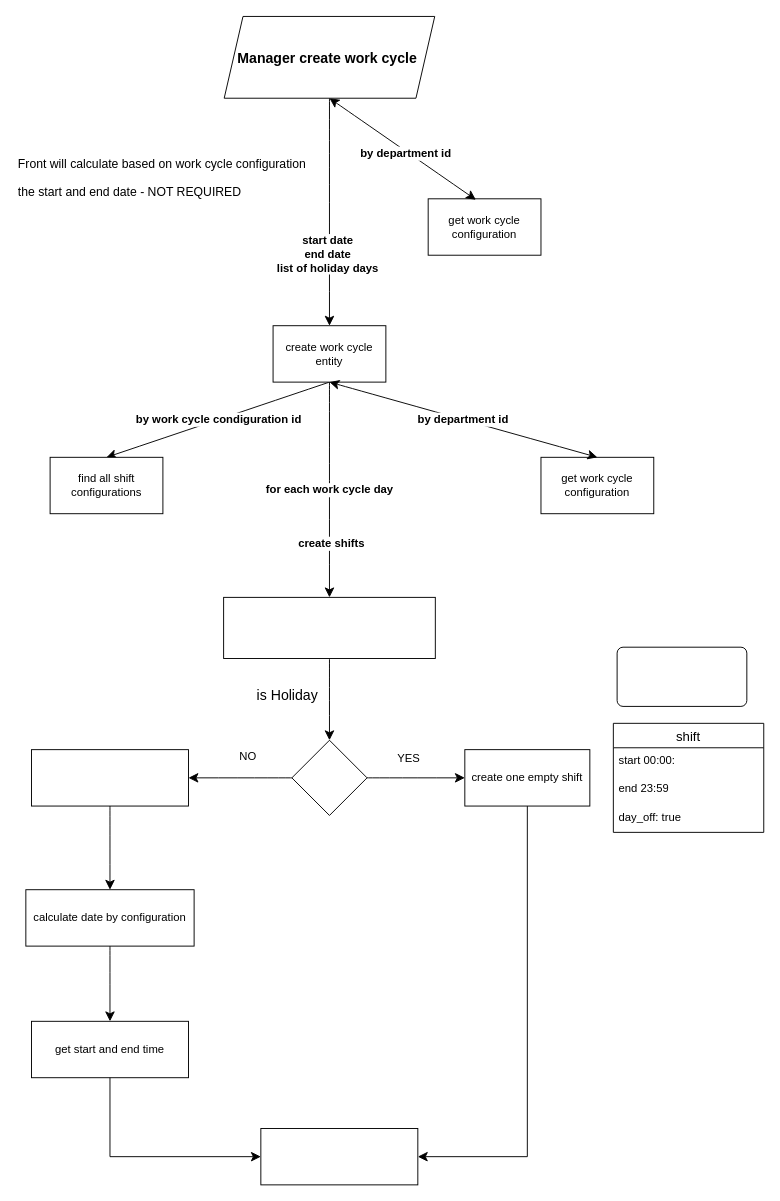
The diagram is 780 pixels wide and 1201 high, and some of its shapes have lost their labels. Each missing label, with the centre of its shape:
calculate amount of shifts based amount of workres: the point at 109,777
findAll shift configuration by workday Example: 1->sunday, 8->sunday: the point at 329,627
new boolean: day_off: the point at 681,676
save: the point at 339,1156
